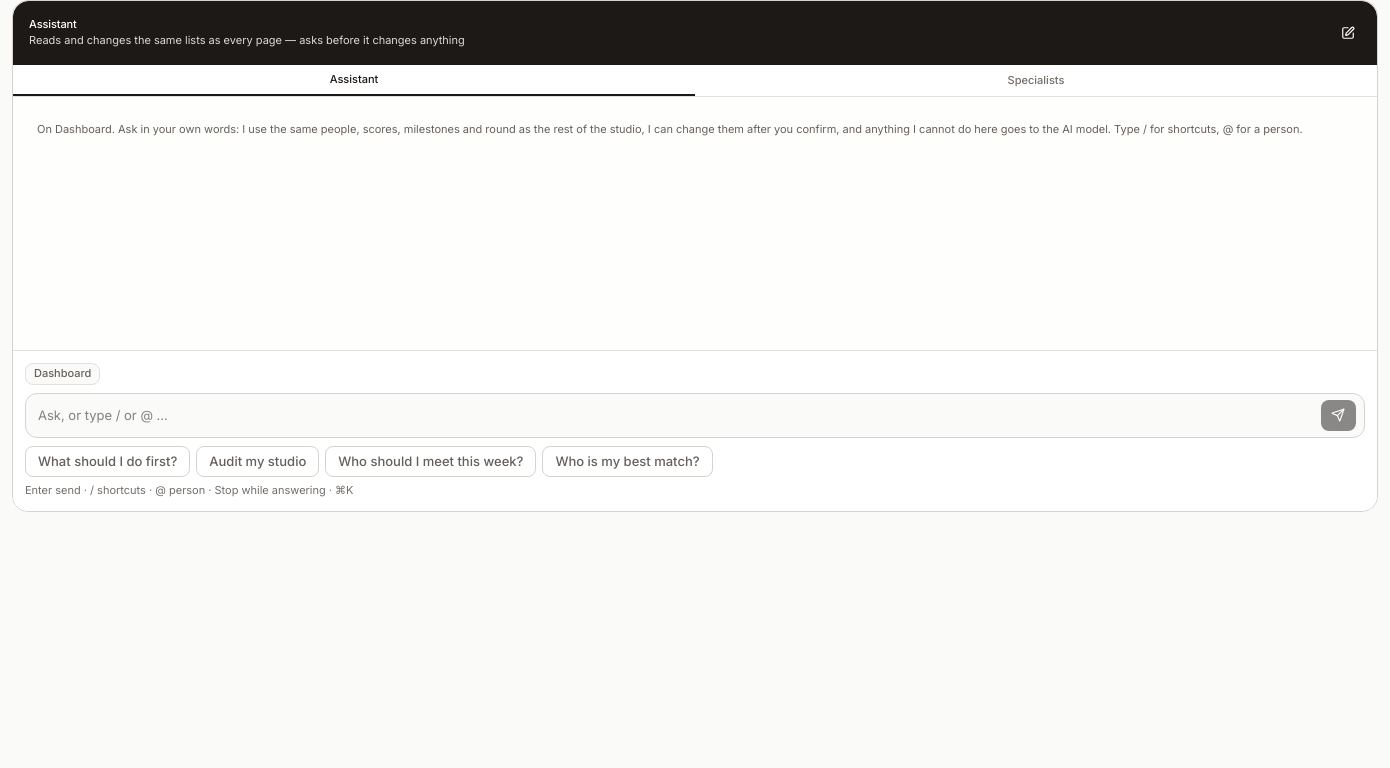
studio chat proposals › applies on Confirm and takes it back on Undo
Type "add milestone Ship the private beta" into the field named "Message the assistant".
click(671, 415); type("add milestone Ship the private beta")  # box x1=30 y1=398 x2=1312 y2=433
Then press Enter
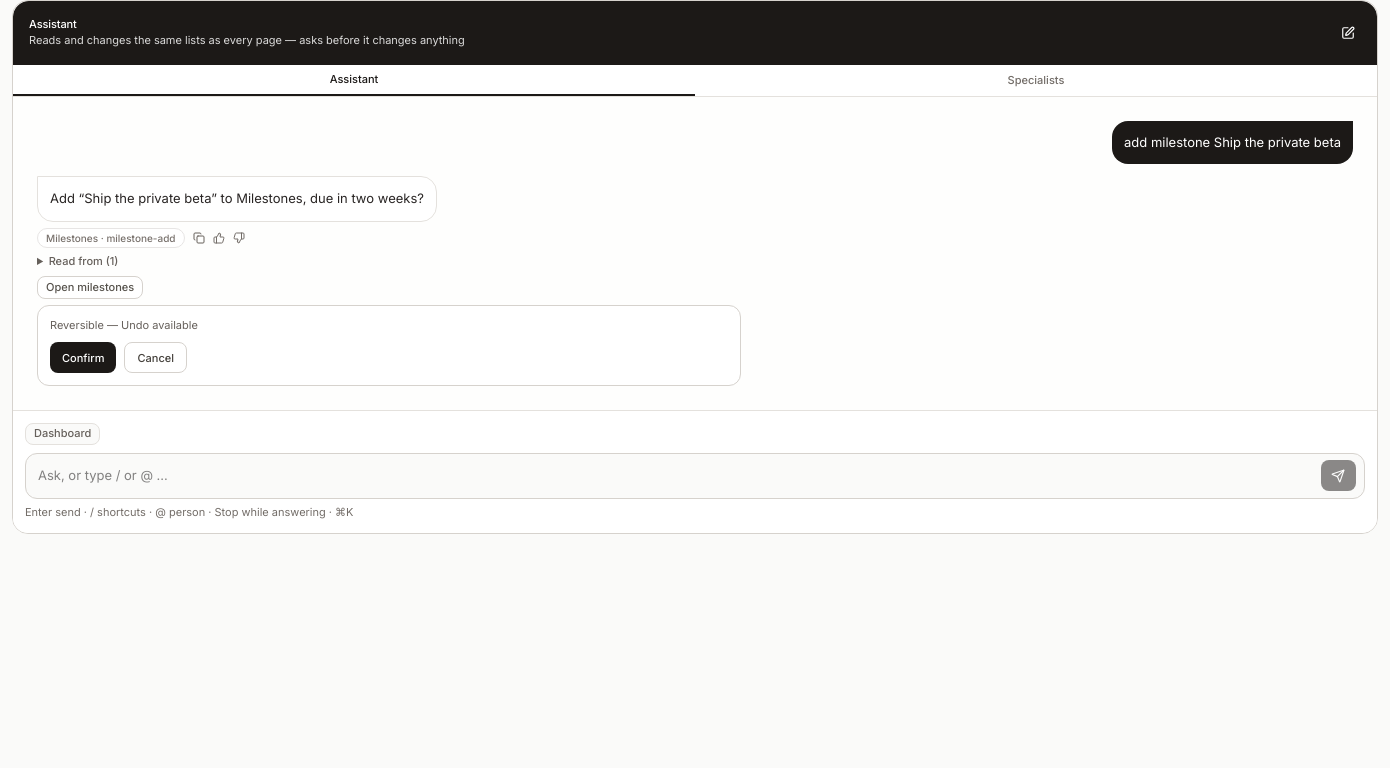
Click the button "Confirm".
click(83, 358)  # box x1=50 y1=342 x2=116 y2=373
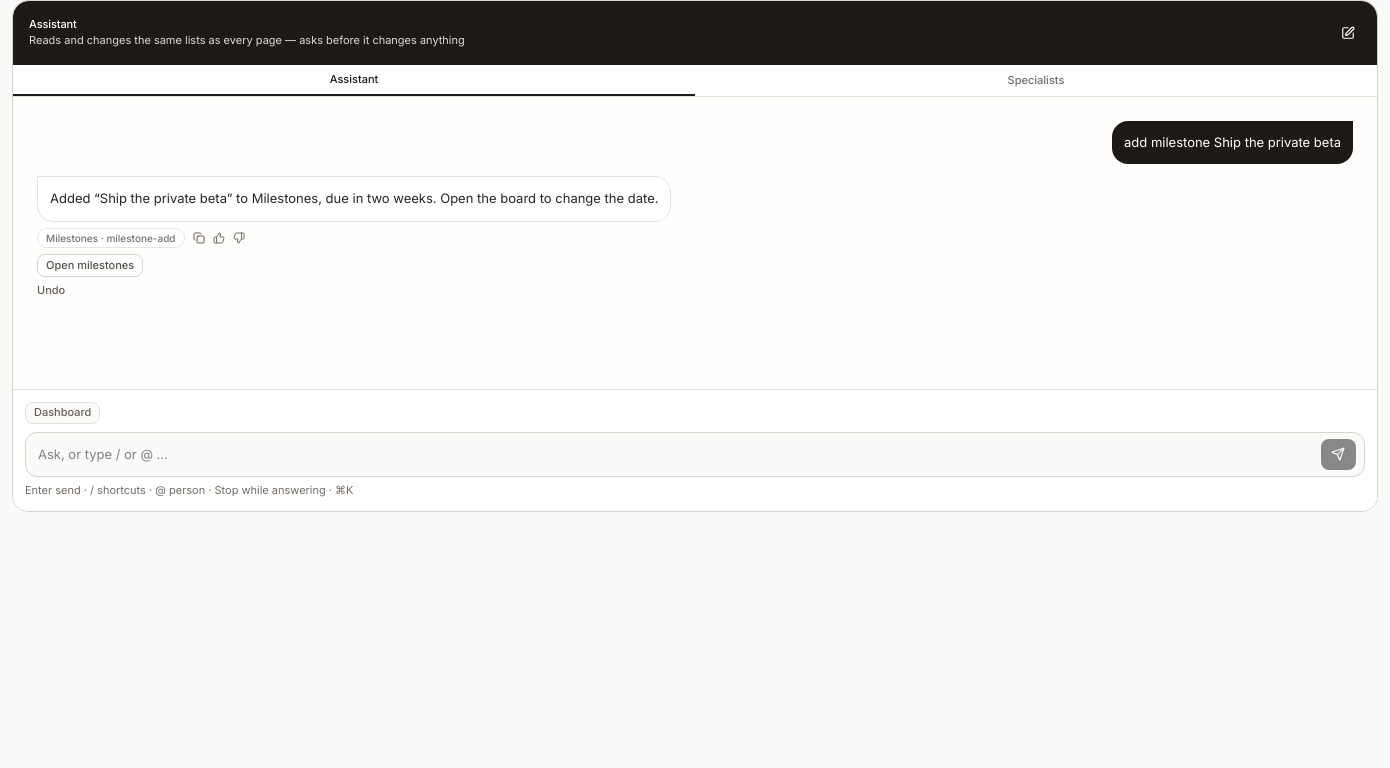
Click the button "Undo".
click(51, 291)  # box x1=37 y1=283 x2=65 y2=299
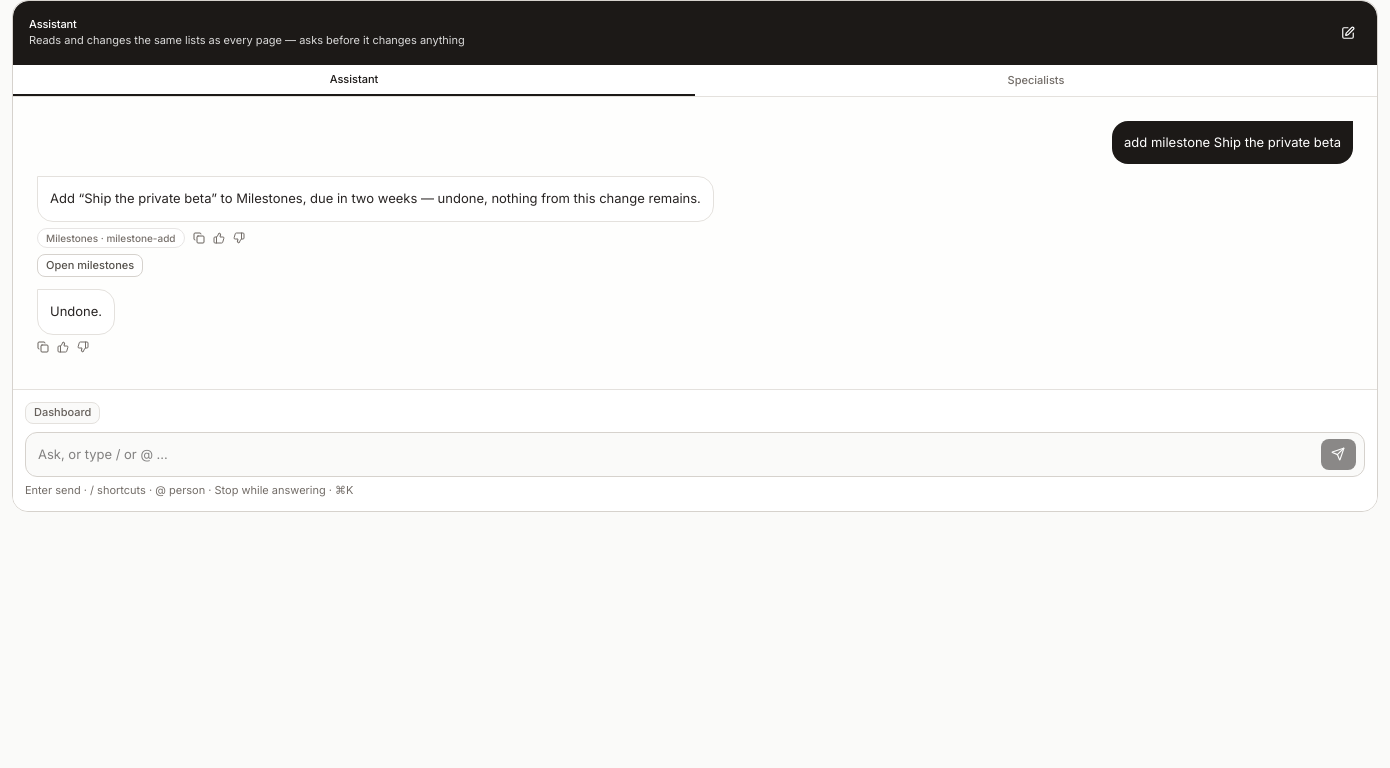
Check: the text "Undone." is shown, box x1=37 y1=289 x2=115 y2=335
